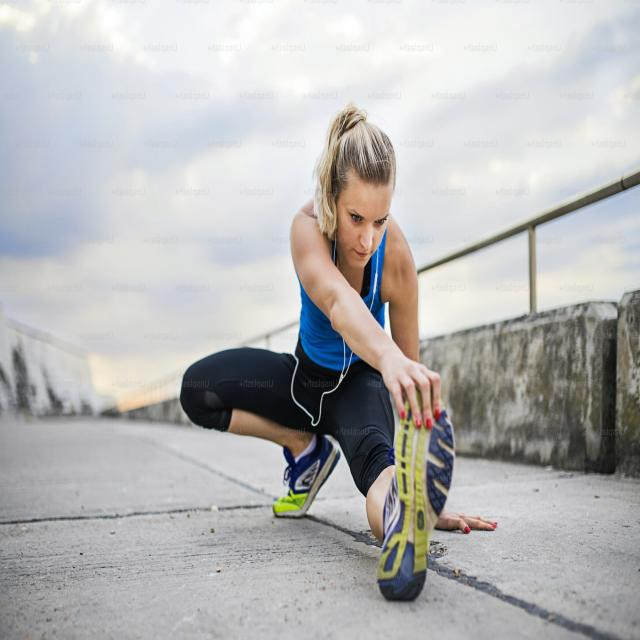adult: (178, 99, 500, 602)
